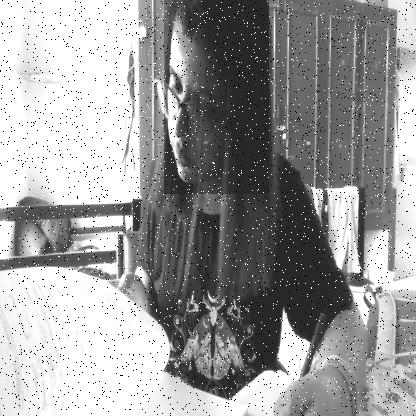Distracted: (164, 0, 269, 194)
